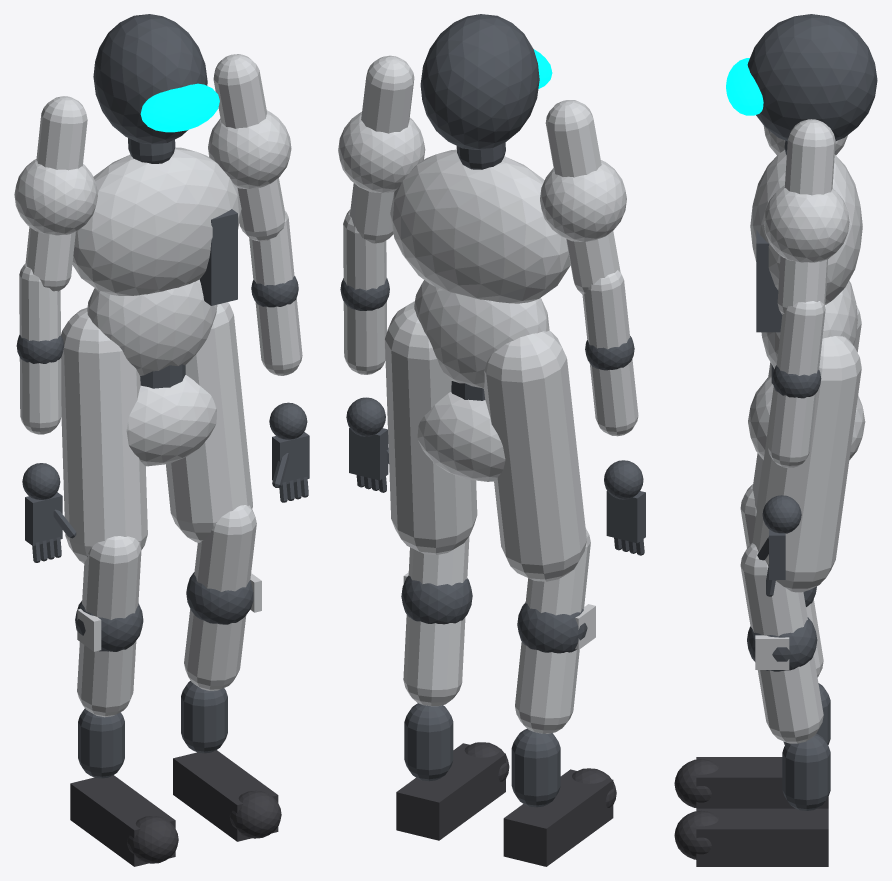
Rendered from robot.glb.
3 views of the same model, side by side, from view 1: azimuth 30°, elevation 25°; view 2: azimuth 150°, elevation 25°; view 3: azimuth 270°, elevation 25° (orthographic). The views are drawn at different scales.
Parts seen in each view (by area): view 1: chest, leg_upper_L, leg_upper_R, head, abdomen, leg_lower_L, leg_lower_R, pelvis, arm_upper_L, arm_upper_R, arm_lower_L, arm_lower_R (+21 smaller); view 2: chest, leg_upper_L, leg_upper_R, head, abdomen, leg_lower_L, leg_lower_R, foot_L, foot_R, arm_lower_L, pelvis, arm_upper_L (+17 smaller); view 3: leg_upper_R, head, leg_lower_R, foot_R, arm_lower_R, arm_upper_R, shoulder_R, chest, foot_L, ankle_cuff_R, abdomen, chest_panel (+13 smaller).
Boxes of the visible parts, x1=… form: chest: x1=72, y1=147, x2=241, y2=295; leg_upper_L: x1=61, y1=307, x2=147, y2=563; leg_upper_R: x1=166, y1=302, x2=252, y2=542; head: x1=93, y1=14, x2=207, y2=144; abdomen: x1=87, y1=279, x2=217, y2=375; leg_lower_L: x1=77, y1=536, x2=141, y2=717; leg_lower_R: x1=184, y1=505, x2=256, y2=690; pelvis: x1=126, y1=375, x2=216, y2=466; arm_upper_L: x1=25, y1=96, x2=87, y2=291; arm_upper_R: x1=213, y1=54, x2=285, y2=241; arm_lower_L: x1=19, y1=263, x2=61, y2=434; arm_lower_R: x1=249, y1=211, x2=302, y2=375; chest: x1=390, y1=149, x2=570, y2=303; leg_upper_L: x1=484, y1=330, x2=586, y2=581; leg_upper_R: x1=384, y1=301, x2=477, y2=554; head: x1=420, y1=14, x2=539, y2=149; abdomen: x1=414, y1=280, x2=549, y2=388; leg_lower_L: x1=515, y1=528, x2=590, y2=733; leg_lower_R: x1=403, y1=537, x2=469, y2=706; foot_L: x1=503, y1=769, x2=613, y2=866; foot_R: x1=396, y1=743, x2=505, y2=840; arm_lower_L: x1=582, y1=270, x2=638, y2=436; pelvis: x1=417, y1=392, x2=505, y2=481; arm_upper_L: x1=545, y1=100, x2=620, y2=294; leg_upper_R: x1=752, y1=336, x2=861, y2=592; head: x1=747, y1=14, x2=877, y2=141; leg_lower_R: x1=740, y1=543, x2=823, y2=743; foot_R: x1=696, y1=808, x2=828, y2=866; arm_lower_R: x1=768, y1=301, x2=825, y2=467; arm_upper_R: x1=777, y1=119, x2=835, y2=314; shoulder_R: x1=763, y1=185, x2=849, y2=262; chest: x1=750, y1=150, x2=862, y2=304; foot_L: x1=696, y1=757, x2=828, y2=808; ankle_cuff_R: x1=782, y1=733, x2=830, y2=810; abdomen: x1=761, y1=280, x2=857, y2=368; chest_panel: x1=756, y1=230, x2=782, y2=332.
Bounding box in the file's own units: 0.68 × 1.84 × 0.415.
